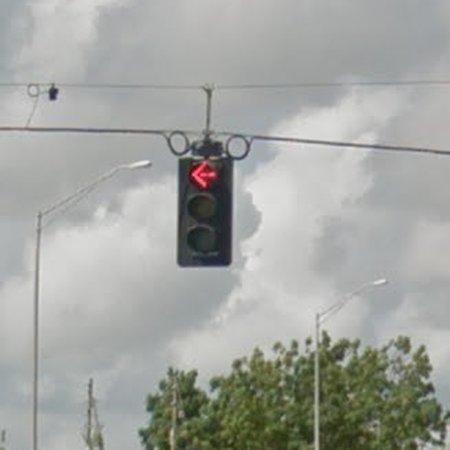traffic lights: (178, 157, 234, 267)
